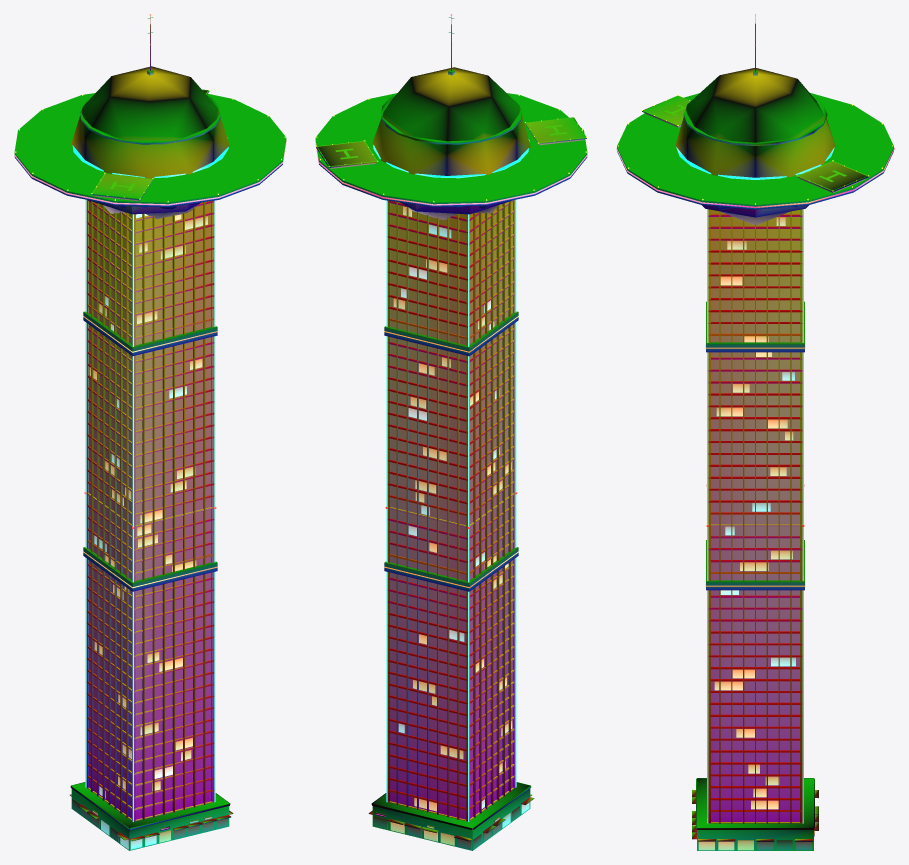
Rendered from Landmark_Orb.fbx.
3 renders of one model, left to right at view 1: azimuth 30°, elevation 25°; view 2: azimuth 150°, elevation 25°; view 3: azimuth 270°, elevation 25°, orthographic.
Visible parts, largest first — view 1: Landmark_Orb_LOD0; view 2: Landmark_Orb_LOD0; view 3: Landmark_Orb_LOD0.
Boxes of the visible parts, x1,y1,x2,y2 form: Landmark_Orb_LOD0: (14,14,286,850); Landmark_Orb_LOD0: (315,14,587,850); Landmark_Orb_LOD0: (616,14,894,850).
Size of what is drawn, in the model's own units: 76.2 by 246 by 76.2.
